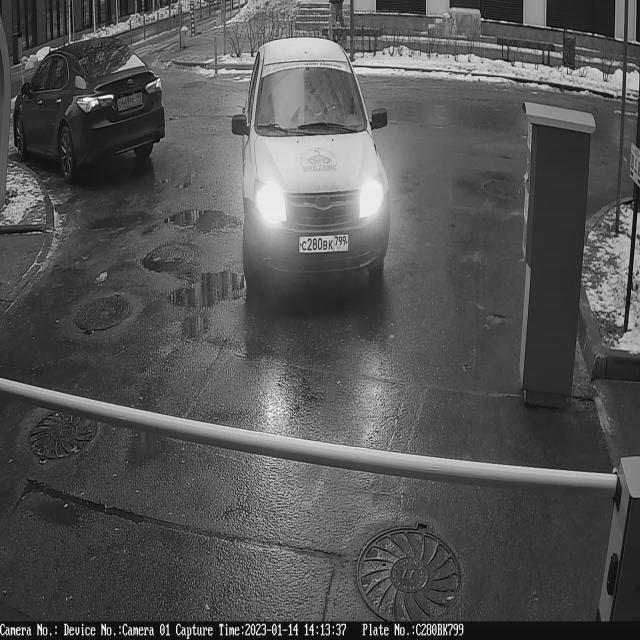car-plate-numbers: (298, 231, 353, 259)
